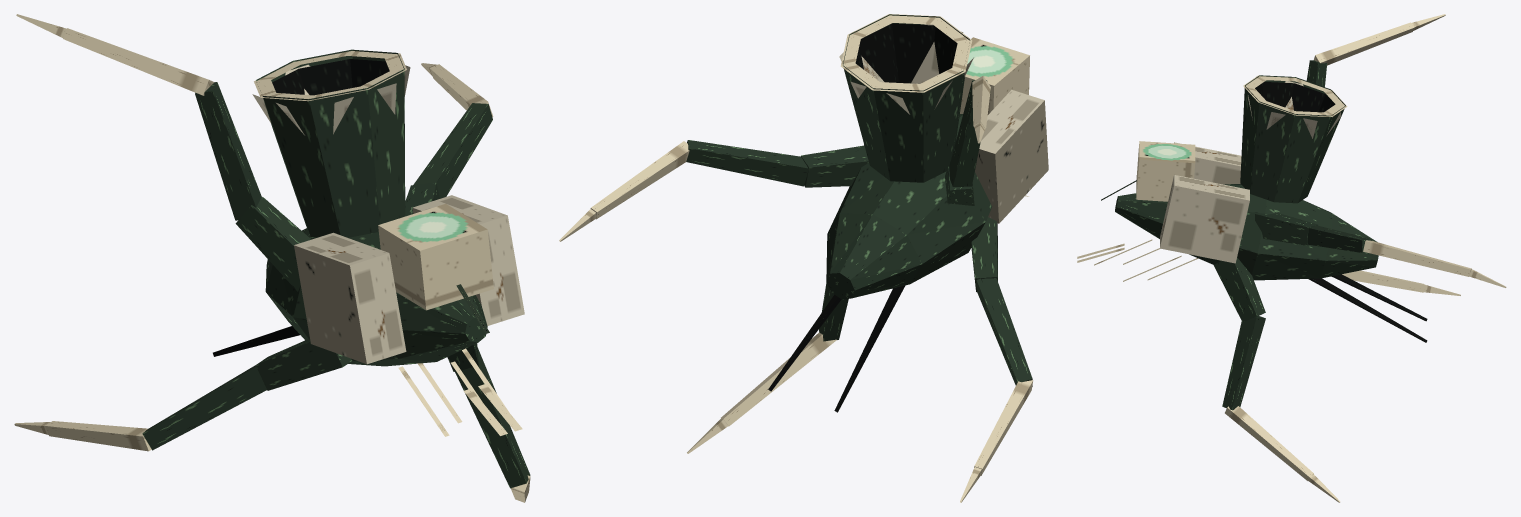
The model's file is vore_locomotion.obj.
3 views of the same model, side by side, from view 1: azimuth 30°, elevation 25°; view 2: azimuth 150°, elevation 25°; view 3: azimuth 270°, elevation 25° (orthographic). The views are drawn at different scales.
Visible parts, largest first — view 1: root, funnel, head, leg_fl_femur, leg_rl_femur, leg_fl_coxa, leg_fr_femur, leg_rr_femur, leg_rl_coxa, leg_fl_tibia, leg_rl_tibia, leg_fr_tibia (+3 smaller); view 2: root, funnel, leg_fr_femur, head, leg_rl_femur, leg_fr_coxa, leg_fr_tibia, leg_fl_femur, leg_rr_tibia, leg_rl_tibia, leg_rl_coxa, tendril_l (+5 smaller); view 3: root, funnel, head, leg_rr_femur, leg_rr_coxa, leg_fr_coxa, leg_rr_tibia, leg_fr_tibia, leg_fl_tibia, leg_fr_femur, leg_rl_tibia, tendril_r (+1 smaller).
Part boxes in pixels (<box>): root: <box>265,195,524,435</box>; funnel: <box>254,49,406,237</box>; head: <box>378,203,493,333</box>; leg_fl_femur: <box>195,82,261,220</box>; leg_rl_femur: <box>142,365,266,450</box>; leg_fl_coxa: <box>235,197,311,291</box>; leg_fr_femur: <box>413,103,492,198</box>; leg_rr_femur: <box>455,348,530,488</box>; leg_rl_coxa: <box>255,339,352,390</box>; leg_fl_tibia: <box>63,28,214,95</box>; leg_rl_tibia: <box>45,421,151,451</box>; leg_fr_tibia: <box>429,64,493,116</box>; root: <box>826,89,1048,298</box>; funnel: <box>840,14,972,182</box>; leg_fr_femur: <box>686,140,808,186</box>; head: <box>960,37,1029,114</box>; leg_rl_femur: <box>976,278,1032,386</box>; leg_fr_coxa: <box>800,145,868,187</box>; leg_fr_tibia: <box>590,141,689,219</box>; leg_fl_femur: <box>947,80,990,186</box>; leg_rr_tibia: <box>721,332,836,426</box>; leg_rl_tibia: <box>974,380,1033,475</box>; leg_rl_coxa: <box>971,217,997,291</box>; tendril_l: <box>834,285,905,412</box>; root: <box>1077,142,1378,280</box>; funnel: <box>1240,75,1347,203</box>; head: <box>1101,141,1195,201</box>; leg_rr_femur: <box>1222,316,1265,410</box>; leg_rr_coxa: <box>1213,257,1265,322</box>; leg_fr_coxa: <box>1255,213,1318,245</box>; leg_rr_tibia: <box>1225,406,1313,480</box>; leg_fr_tibia: <box>1363,240,1471,276</box>; leg_fl_tibia: <box>1314,22,1413,65</box>; leg_fr_femur: <box>1307,226,1371,252</box>; leg_rl_tibia: <box>1331,270,1425,292</box>; tendril_r: <box>1308,278,1427,342</box>.
Size of the model in its own units: 0.8256 by 0.9279 by 1.03.
1 material, 1 textured.
